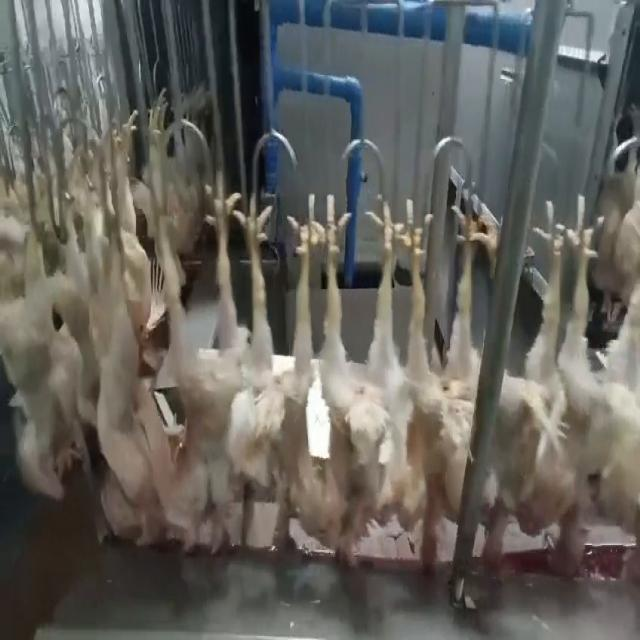chicken: (308, 191, 402, 566), (155, 180, 248, 557), (231, 185, 317, 555), (401, 183, 480, 574), (527, 192, 597, 580), (83, 183, 157, 543), (596, 182, 640, 599)
